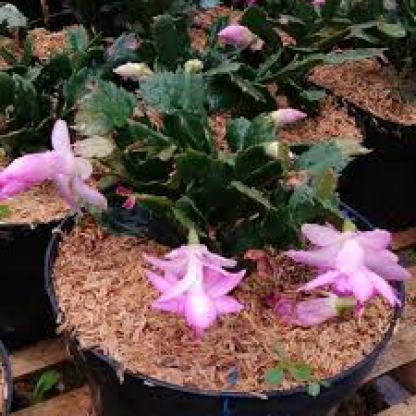Aglonema: (58, 42, 390, 400)
